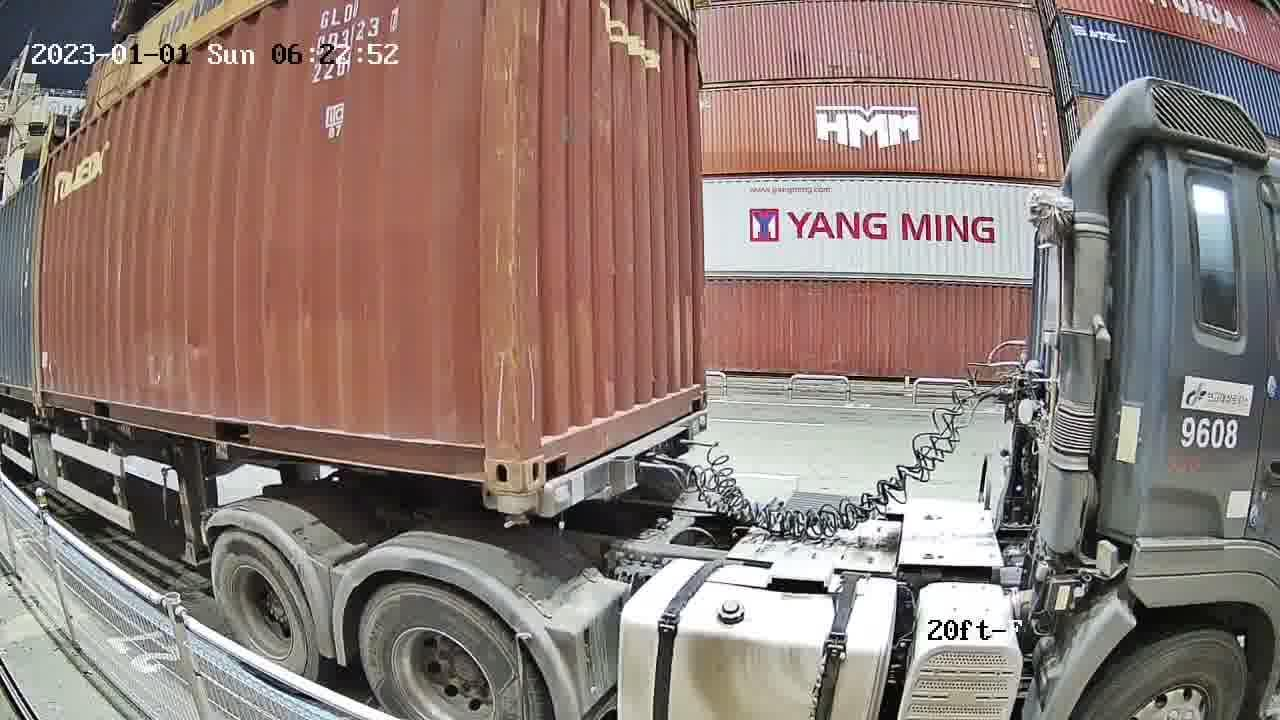Chassis: (495, 411, 705, 518)
Cone: (495, 491, 536, 528)
Hole_L: (521, 410, 571, 491), (683, 371, 709, 415)
Hole_R: (457, 422, 523, 492)
Tire: (361, 585, 536, 716), (211, 532, 316, 684)
